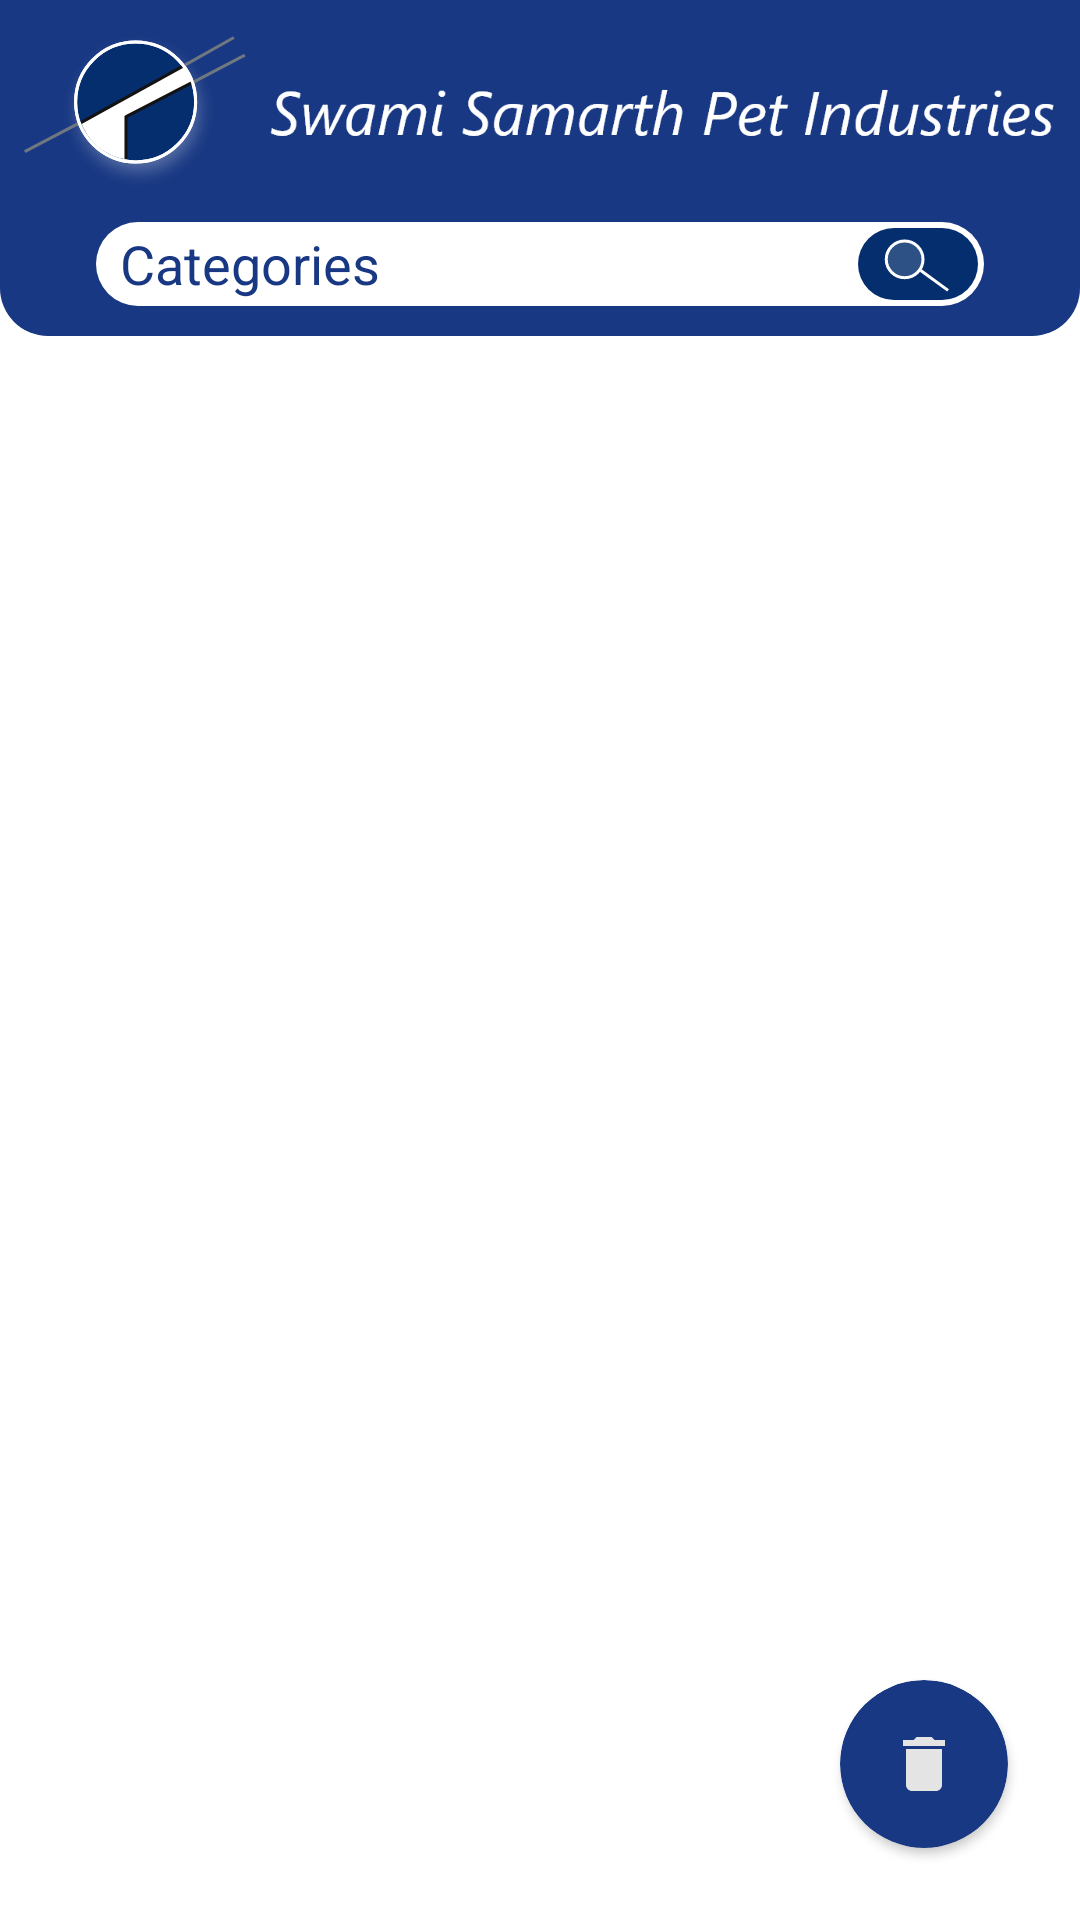

Icons on this 1080px×1920px Android screen, each with its box as (x1, y1, x2, y2):
delete: (903, 1737, 945, 1791)
